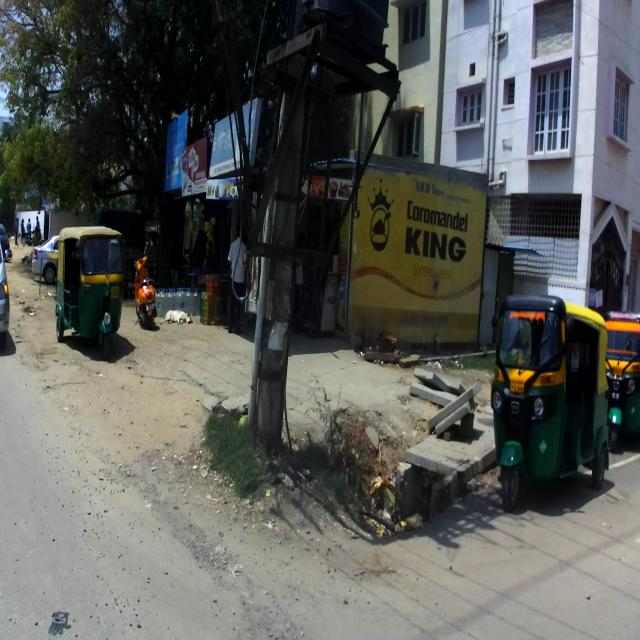auto ahead at: (494, 293, 611, 512), (56, 226, 126, 350)
electric pole ahead at: (244, 0, 356, 447)
motorcycle ahead at: (128, 246, 160, 328)
